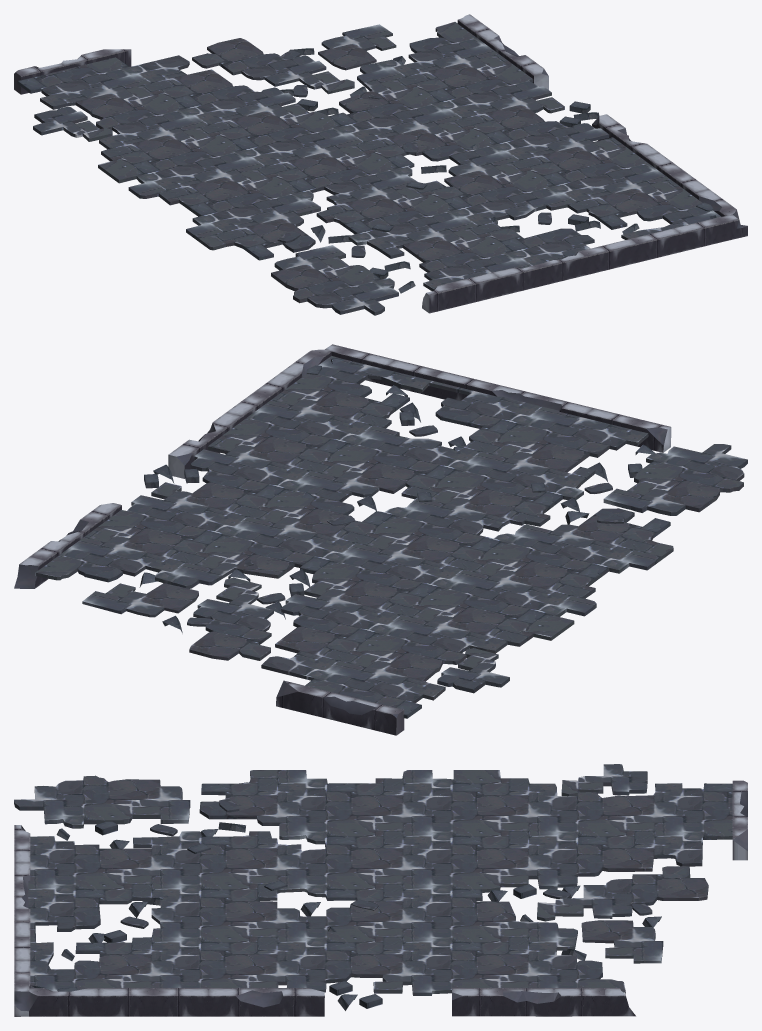
Rendered from Beidaying_bossdimian.FBX.
The picture shows the model from 3 angles, top to bottom: view 1: azimuth 30°, elevation 25°; view 2: azimuth 150°, elevation 25°; view 3: azimuth 270°, elevation 25°; orthographic projection. The views are drawn at different scales.
Parts seen in each view (by area): view 1: Beidaying_bossqu01, Beidaying_bossqu02; view 2: Beidaying_bossqu01, Beidaying_bossqu02; view 3: Beidaying_bossqu01, Beidaying_bossqu02.
Boxes of the visible parts, box(x1,y1,x2,y2) form: Beidaying_bossqu01: box(17, 22, 721, 315); Beidaying_bossqu02: box(14, 14, 747, 313); Beidaying_bossqu01: box(35, 356, 747, 718); Beidaying_bossqu02: box(14, 344, 671, 735); Beidaying_bossqu01: box(14, 764, 732, 1010); Beidaying_bossqu02: box(14, 780, 747, 1016).
Size of the model in its own units: 730 by 953 by 29.79.
